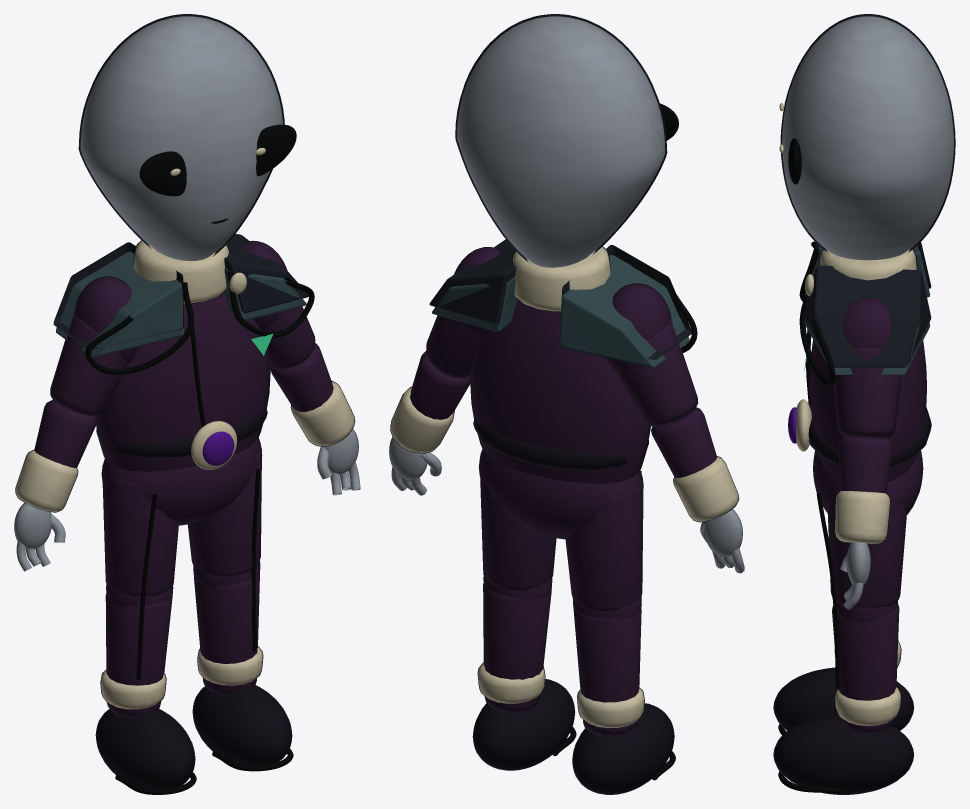
The model's file is vey-blender.glb.
The picture shows the model from 3 angles, left to right: view 1: azimuth 30°, elevation 25°; view 2: azimuth 150°, elevation 25°; view 3: azimuth 270°, elevation 25°; orthographic projection. The views are drawn at different scales.
Visible parts, largest first — view 1: Pear shaped Gray head, Tailored torso, Thigh -1, Boot -1, Boot 1, Slate mantle -1, Hips, Shin -1, Shin 1, Thigh 1, Upper sleeve -1, Ivory standing collar (+26 smaller); view 2: Pear shaped Gray head, Tailored torso, Thigh -1, Hips, Slate mantle -1, Boot -1, Boot 1, Shin -1, Shin 1, Thigh 1, Upper sleeve -1, Ivory standing collar (+18 smaller); view 3: Pear shaped Gray head, Slate mantle 1 contour, Boot 1, Shin 1, Tailored torso, Upper sleeve 1, Thigh 1, Boot -1, Lower sleeve 1, Ceramic cuff 1, Shoulder joint 1, Hips (+14 smaller).
Boxes of the visible parts, x1=… form: Pear shaped Gray head: x1=80, y1=16, x2=282, y2=260; Tailored torso: x1=96, y1=292, x2=268, y2=471; Thigh -1: x1=103, y1=468, x2=178, y2=596; Boot -1: x1=96, y1=709, x2=194, y2=789; Boot 1: x1=193, y1=685, x2=291, y2=765; Slate mantle -1: x1=56, y1=251, x2=183, y2=357; Hips: x1=103, y1=438, x2=259, y2=524; Shin -1: x1=106, y1=594, x2=171, y2=716; Shin 1: x1=194, y1=572, x2=259, y2=693; Thigh 1: x1=188, y1=446, x2=261, y2=576; Upper sleeve -1: x1=51, y1=316, x2=127, y2=415; Ivory standing collar: x1=134, y1=241, x2=228, y2=303; Pear shaped Gray head: x1=457, y1=16, x2=665, y2=267; Tailored torso: x1=472, y1=300, x2=649, y2=483; Thigh -1: x1=566, y1=479, x2=642, y2=611; Hips: x1=480, y1=449, x2=641, y2=538; Slate mantle -1: x1=560, y1=254, x2=689, y2=367; Boot -1: x1=573, y1=704, x2=673, y2=794; Boot 1: x1=473, y1=680, x2=574, y2=769; Shin -1: x1=574, y1=608, x2=640, y2=735; Shin 1: x1=483, y1=584, x2=550, y2=712; Thigh 1: x1=480, y1=458, x2=555, y2=590; Upper sleeve -1: x1=617, y1=323, x2=697, y2=425; Ivory standing collar: x1=513, y1=247, x2=610, y2=311; Pear shaped Gray head: x1=782, y1=16, x2=953, y2=259; Slate mantle 1 contour: x1=803, y1=265, x2=931, y2=367; Boot 1: x1=774, y1=715, x2=912, y2=794; Shin 1: x1=832, y1=604, x2=898, y2=733; Tailored torso: x1=810, y1=341, x2=925, y2=482; Upper sleeve 1: x1=834, y1=347, x2=901, y2=437; Thigh 1: x1=828, y1=490, x2=906, y2=608; Boot -1: x1=774, y1=668, x2=912, y2=730; Lower sleeve 1: x1=838, y1=436, x2=892, y2=493; Ceramic cuff 1: x1=835, y1=491, x2=889, y2=543; Shoulder joint 1: x1=843, y1=298, x2=891, y2=348; Hips: x1=814, y1=451, x2=922, y2=512.
Size of the model in its own units: 1.06 by 2.2 by 0.4875.
9 materials, 8 textured.
